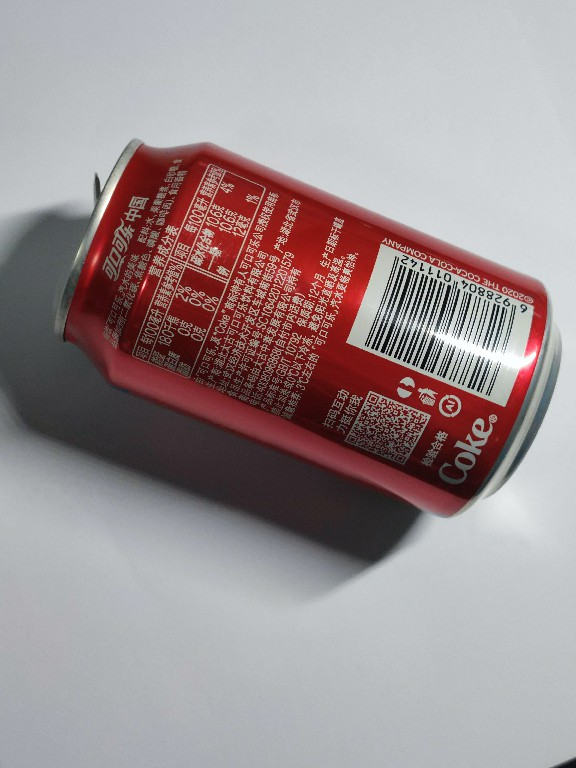can: (51, 133, 565, 522)
